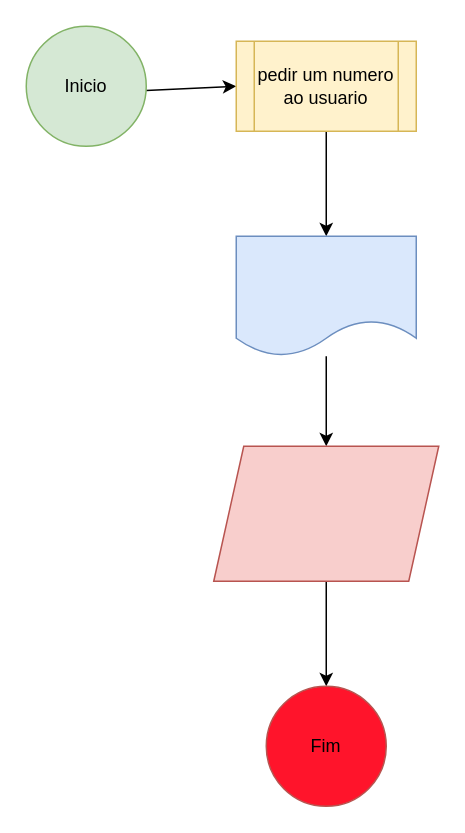
Image size: 465x833. Some labels were removed from this diagram. The box of each missing label's shape, as (x1, y1, x2, y2) in pixels:
exibir o resultado no console: (212, 445, 439, 581)
verifica se o numero é par ou ímpar: (235, 235, 416, 356)
